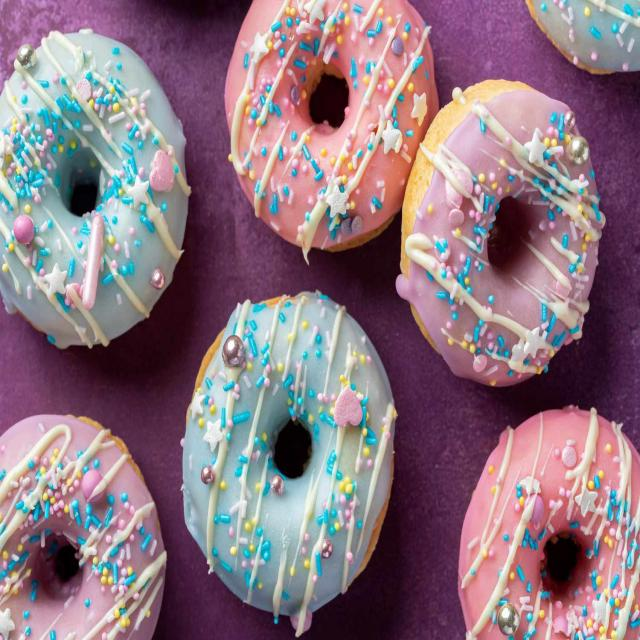donut: (182, 288, 396, 621), (396, 76, 604, 391), (0, 28, 192, 350), (221, 0, 441, 258), (454, 404, 640, 640), (0, 412, 168, 640)
